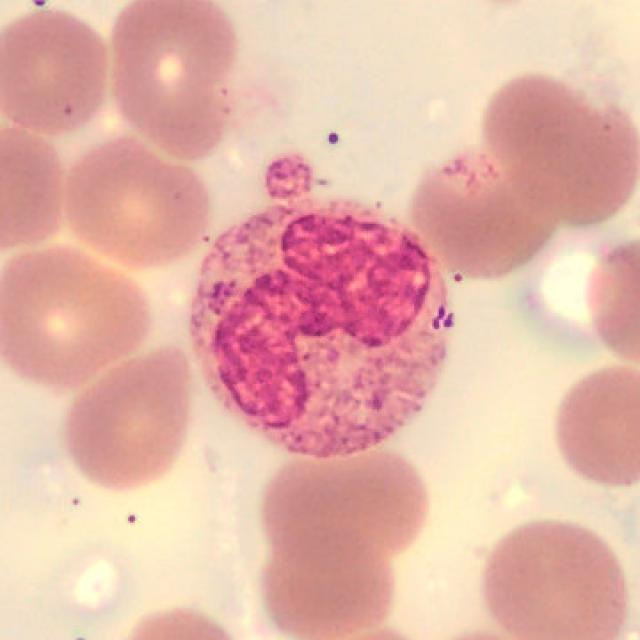Bastonete: (190, 188, 455, 462)
